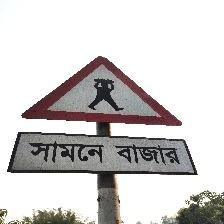Market-in-front: (10, 56, 195, 176)
